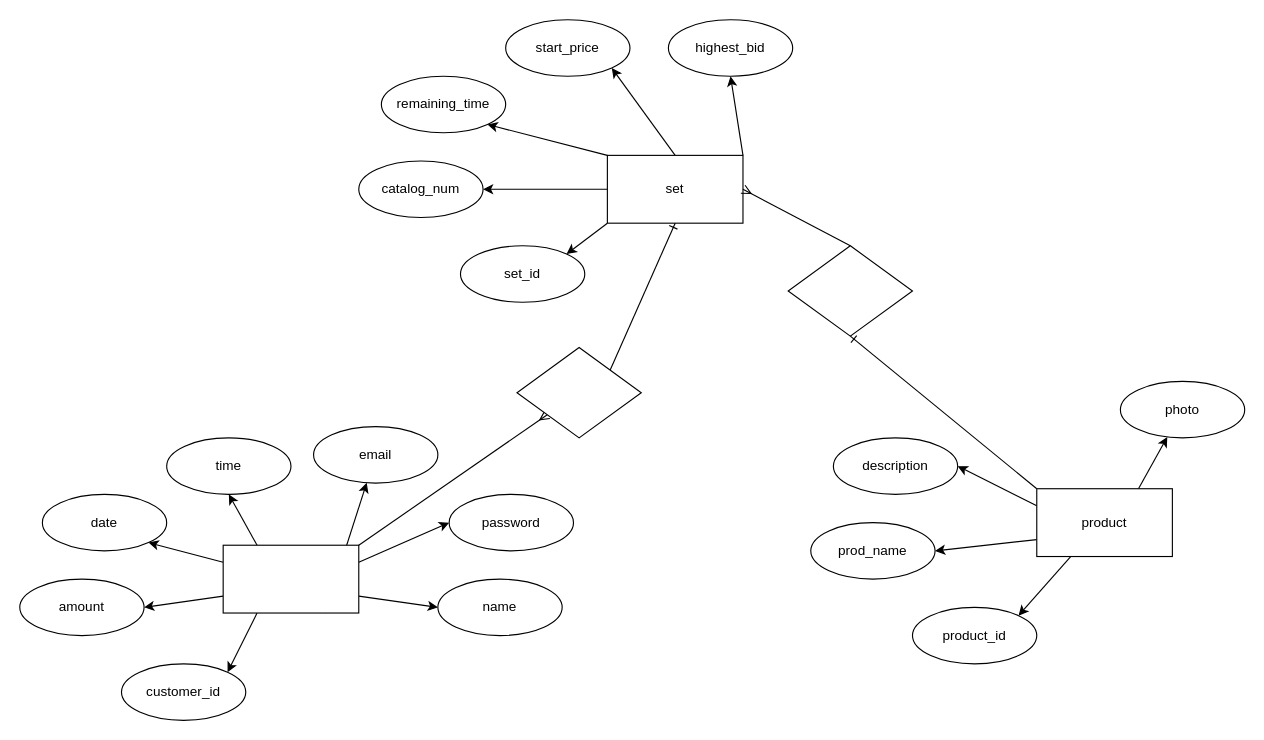
Image size: 1264x740. Some labels were removed from this diagram. The box of each missing label's shape, as (x1, y1, x2, y2) in pixels:
bids on: (516, 346, 641, 438)
contains of: (787, 245, 912, 336)
customer: (222, 544, 359, 613)
